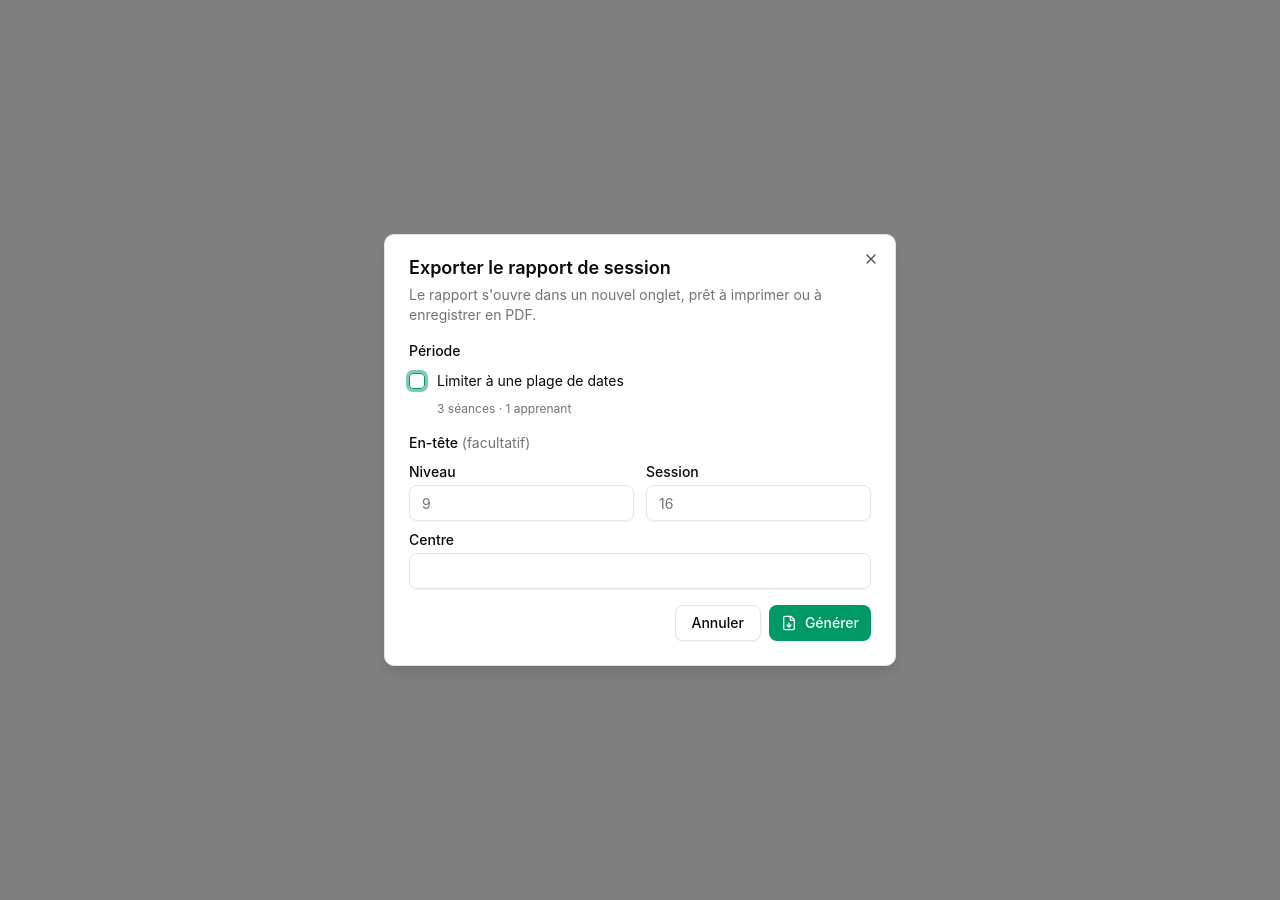
Test case: ExportRapportDialog › met à jour le compteur quand la période se resserre
Click the checkbox named "plage de dates": (417, 381) [409,373,425,389]
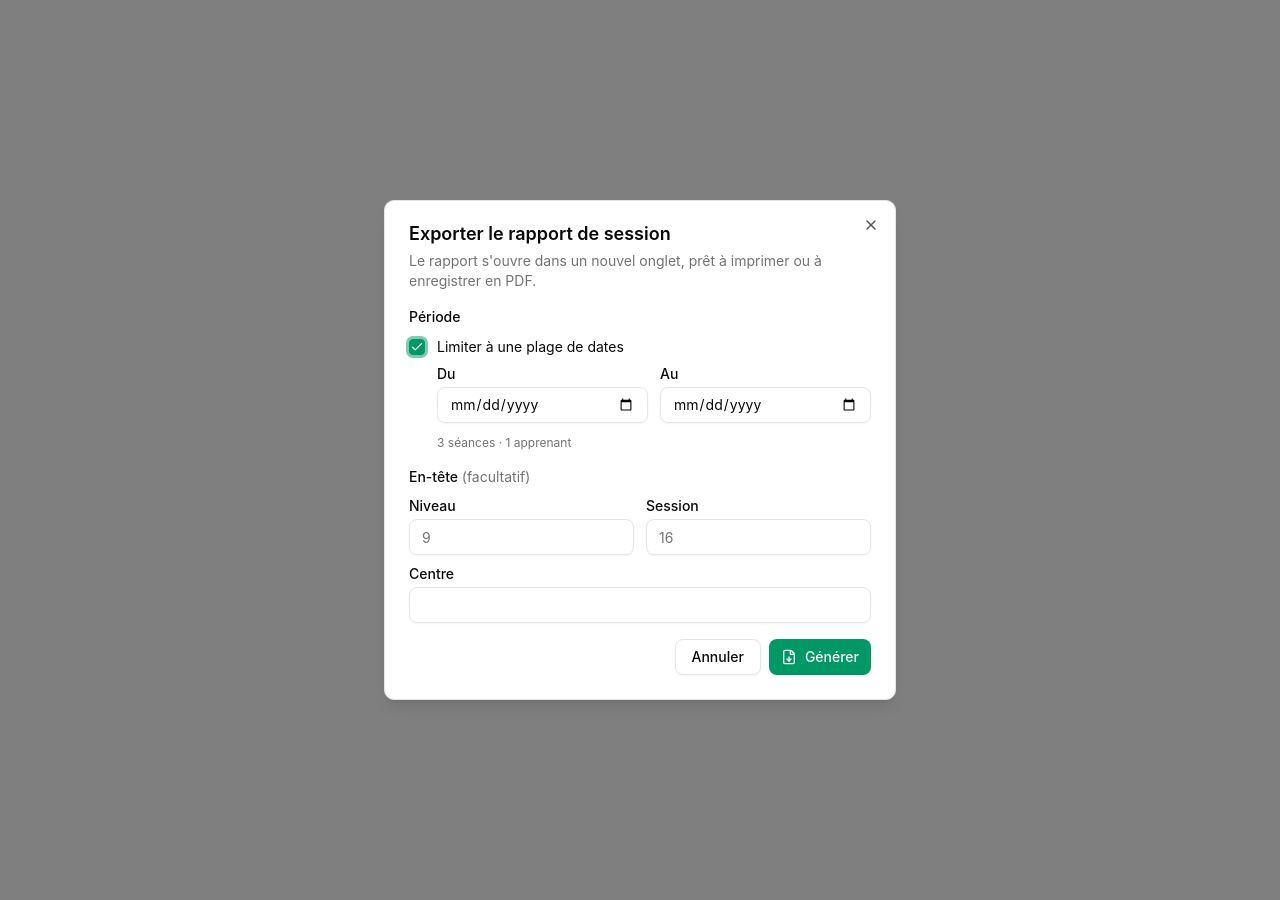
In the date field labelled "Du": (542, 405) [437,387,648,423], type "2026-03-01"
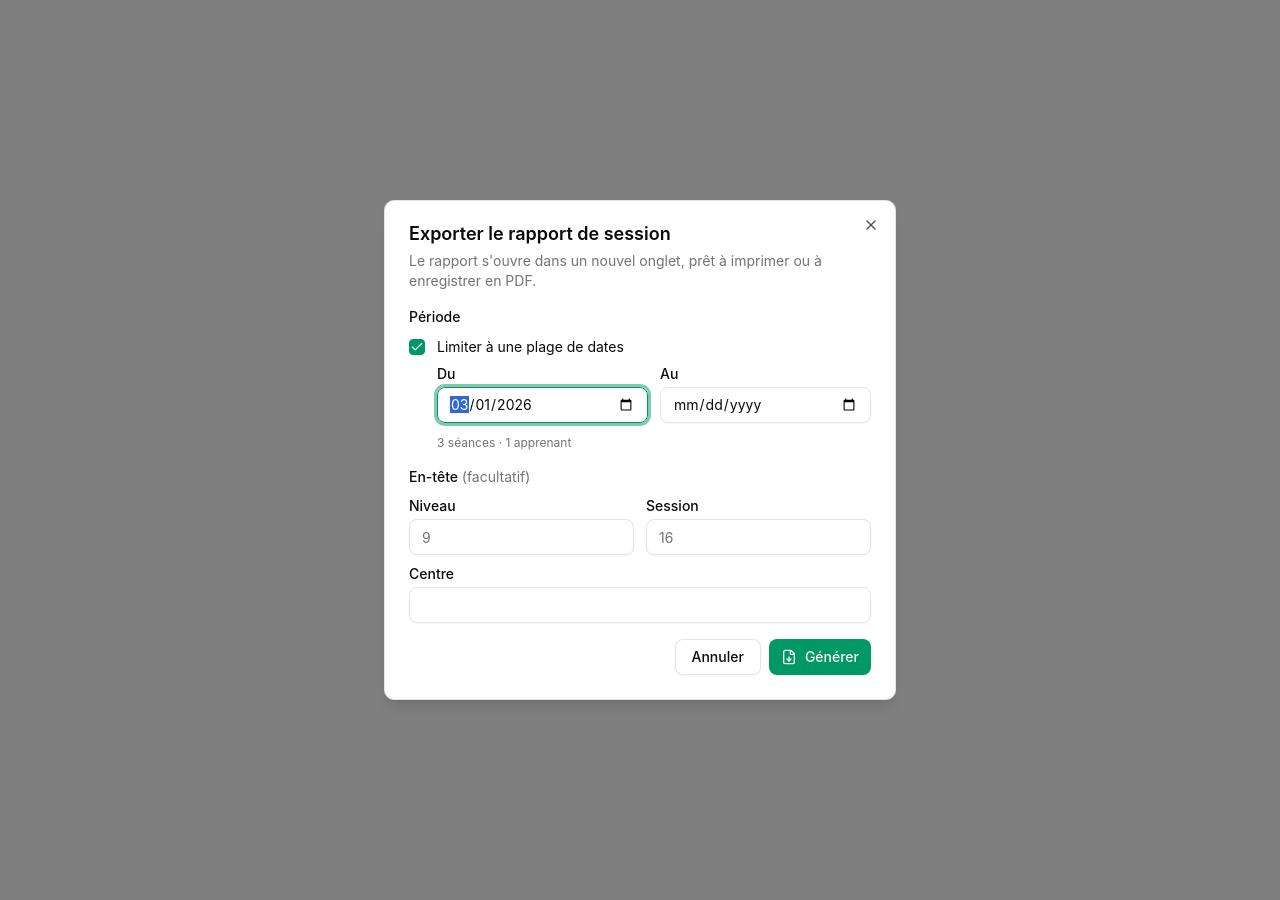
In the date field labelled "Au": (766, 405) [660,387,871,423], type "2026-03-31"
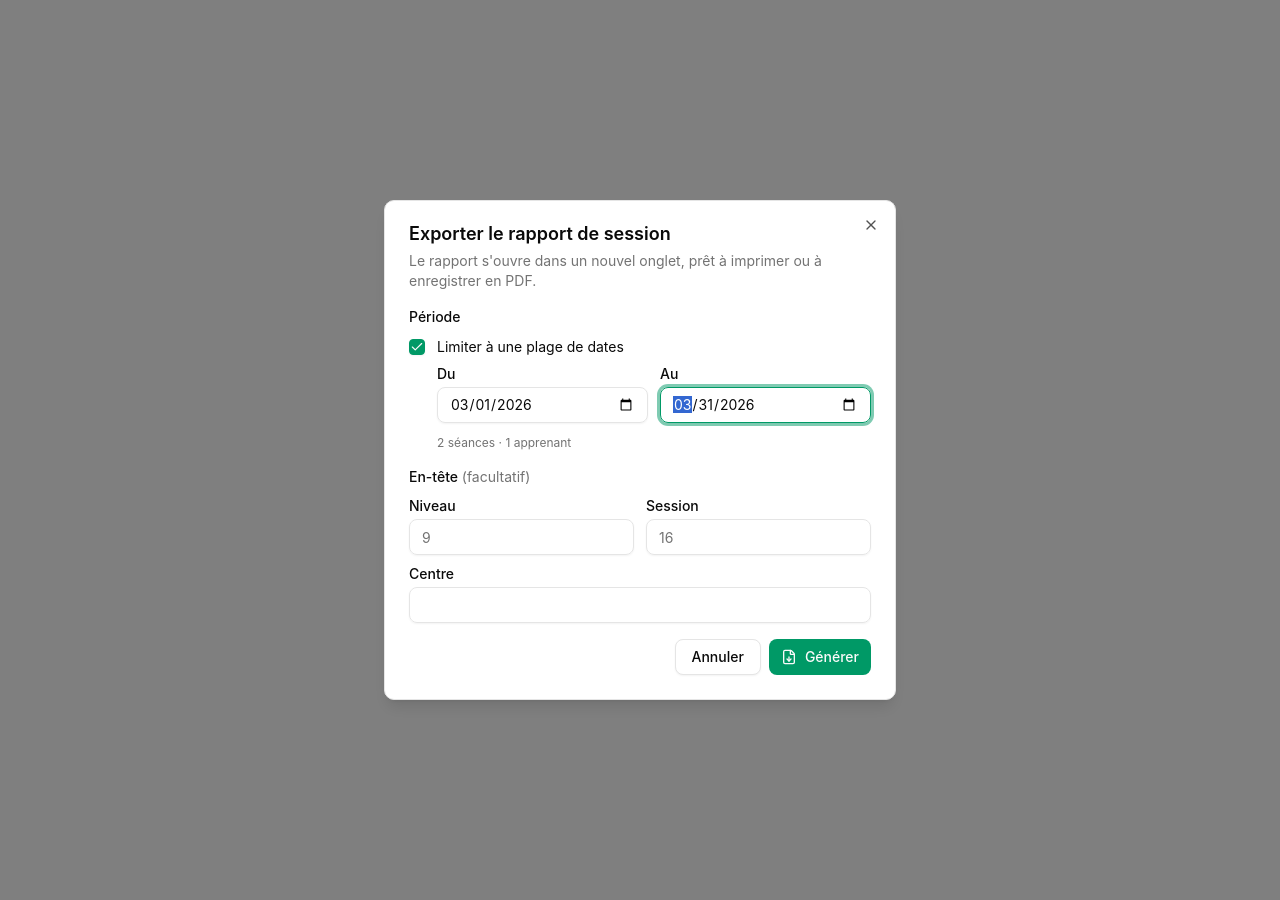
Check: the text "2 séances · 1 apprenant" is shown, box [437,435,571,450]
